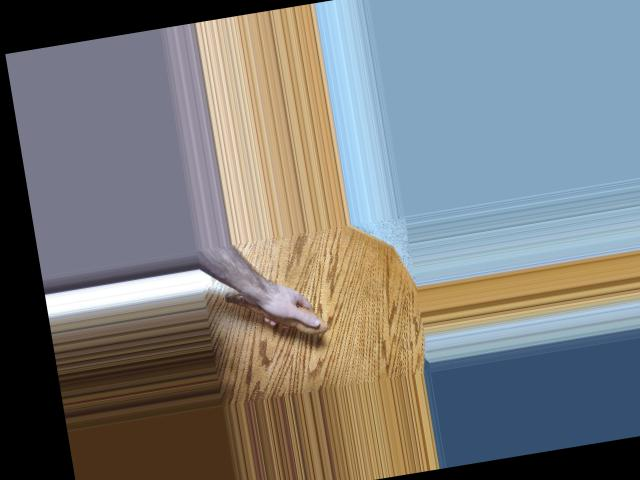sweet_potato: (207, 275, 330, 351)
